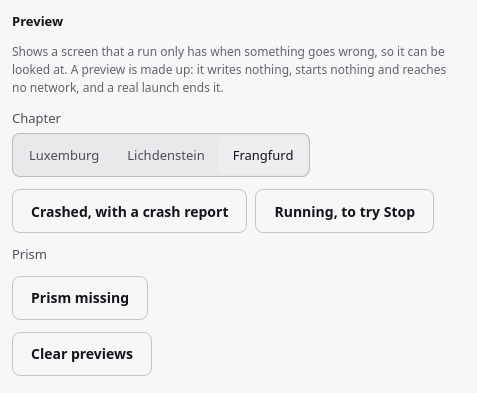
Test case: PreviewSection › shows Go's refusal and does not claim a preview started
This screenshot has width=477, height=393.
Click the button "Crashed, with a crash report". click: (130, 211)
box: 12,189 -> 248,233
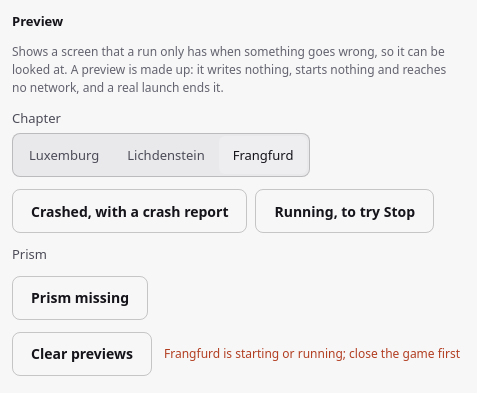
Check: the message shows "starting or running", box 164,345 -> 460,362
